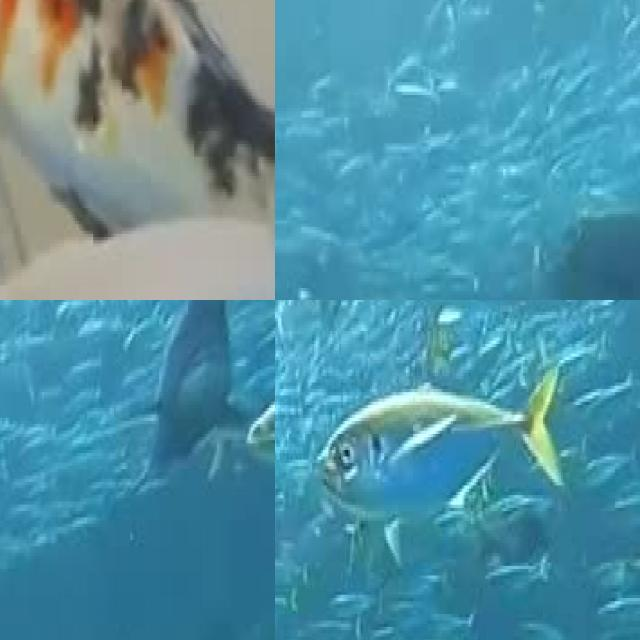fish: (0, 0, 275, 300), (308, 344, 576, 534)
